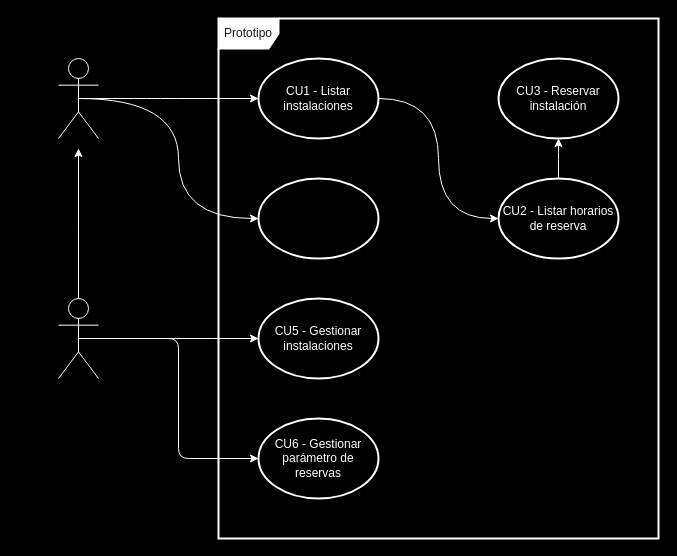
This 677x556 diagram has some shape labels left out. The shapes that lost their labels are listed below. From the top down, each one's box as (x1, y1, x2, y2) in pixels, then its label:
(58, 58, 98, 138): Actor 1 - Usuario
(257, 177, 379, 259): CU4 - Gestionar reservas realizadas
(58, 298, 98, 378): Actor 2 - Administrador
